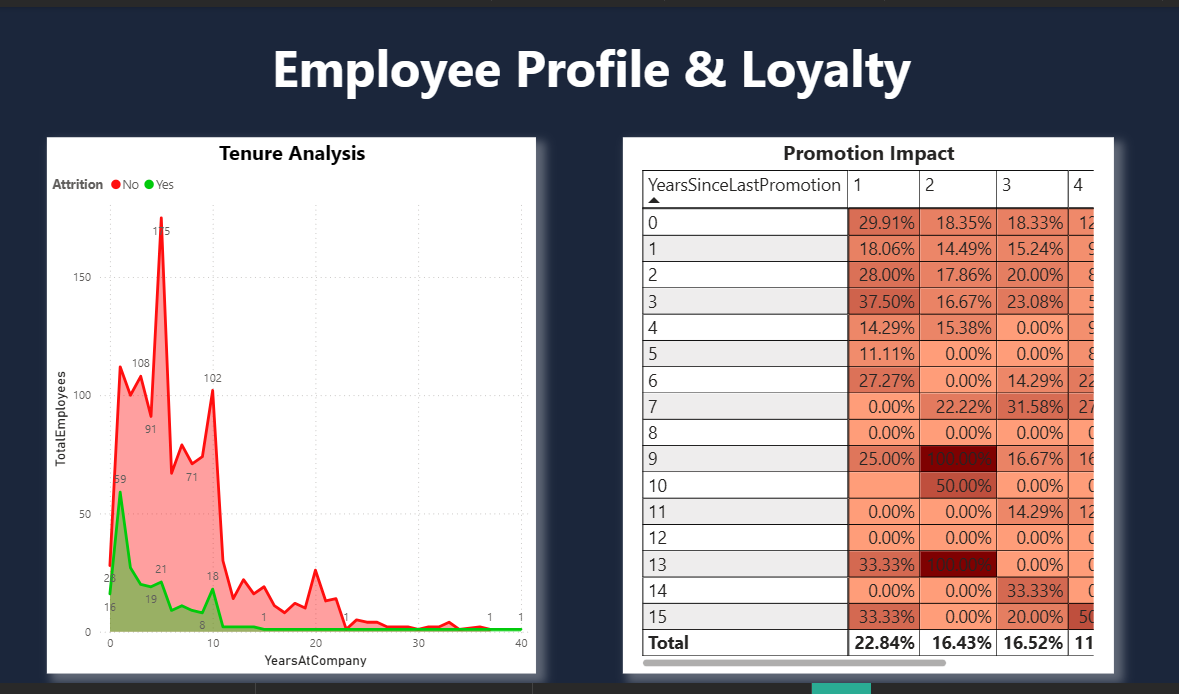

What the dashboard file says about the page in this screenshot:
{"tool":"powerbi","page":{"name":"Employee Profile & Loyalty","canvas":[1280,720],"ordinal":2},"visuals":[{"type":"textbox","box":[209.3,22.4,862.7,99.1],"z":0},{"type":"areaChart","title":"Tenure Analysis","fields":{"Category":["Cleaned_HR_Analytics_Data.YearsAtCompany"],"Y":["Cleaned_HR_Analytics_Data.TotalEmployees"],"Series":["Cleaned_HR_Analytics_Data.Attrition"]},"box":[60.7,139,520.8,570.4],"z":1000},{"type":"pivotTable","title":"Promotion Impact","fields":{"Rows":["Cleaned_HR_Analytics_Data.YearsSinceLastPromotion"],"Columns":["Cleaned_HR_Analytics_Data.JobSatisfaction"],"Values":["Cleaned_HR_Analytics_Data.AttritionRate"]},"box":[674.2,139,522.4,570.4],"z":2000}]}

Visuals, with their boxes in screenshot pixels (x1, y1, x2, y2):
textbox: [left=182, top=24, right=994, bottom=117]
"Tenure Analysis" areaChart: [left=42, top=134, right=532, bottom=671]
"Promotion Impact" pivotTable: [left=620, top=134, right=1112, bottom=671]
